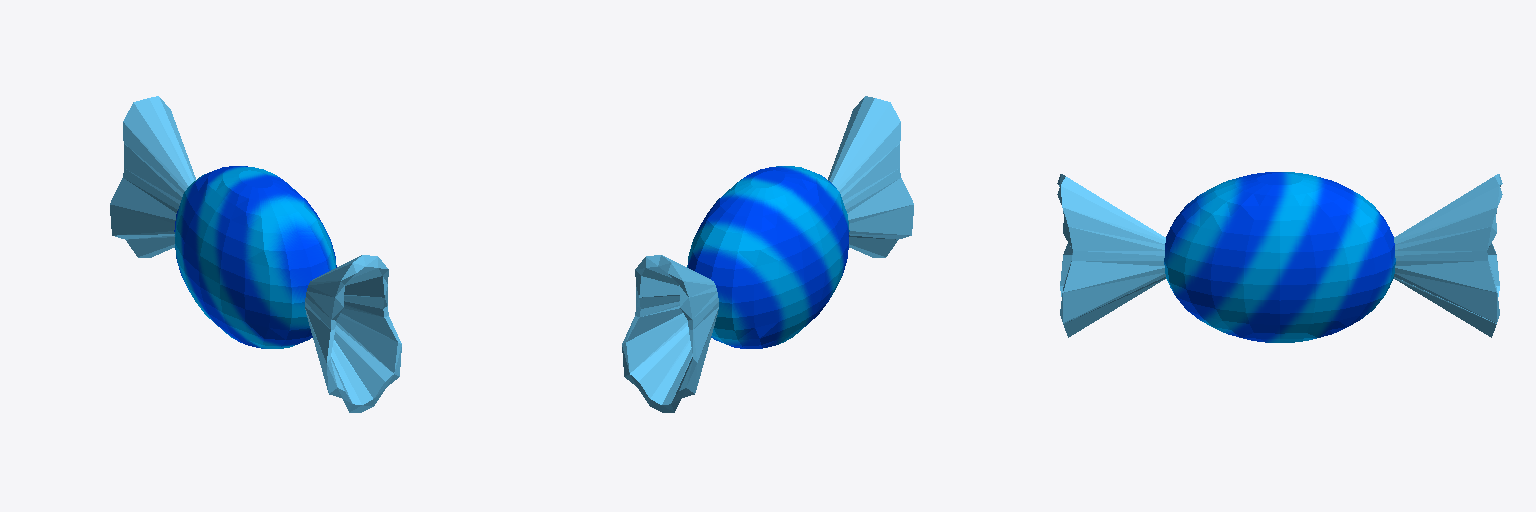
3 renders of one model, left to right at view 1: azimuth 30°, elevation 25°; view 2: azimuth 150°, elevation 25°; view 3: azimuth 270°, elevation 25°, orthographic.
Visible parts, largest first — view 1: Sphere, Cone; view 2: Sphere, Cone; view 3: Sphere, Cone.
Boxes of the visible parts, x1=… form: Sphere: x1=174, y1=166, x2=336, y2=348; Cone: x1=110, y1=96, x2=401, y2=412; Sphere: x1=687, y1=166, x2=849, y2=348; Cone: x1=622, y1=96, x2=913, y2=412; Sphere: x1=1164, y1=172, x2=1395, y2=342; Cone: x1=1057, y1=174, x2=1502, y2=337.
Bounding box in the file's own units: 1.01 × 1.34 × 3.4.
Materials: 2 (2 with a texture image).